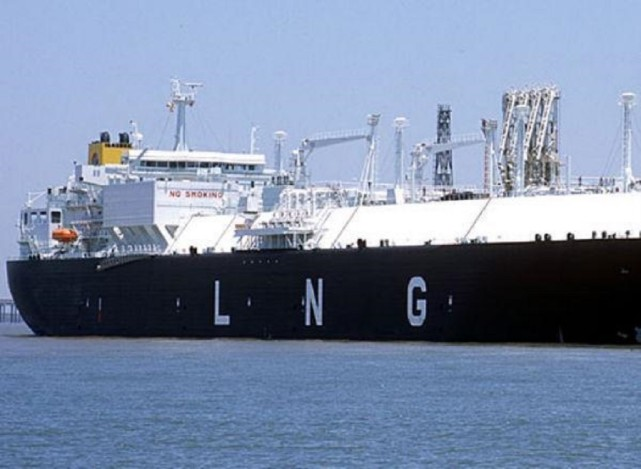Cargoship: (4, 76, 641, 342)
